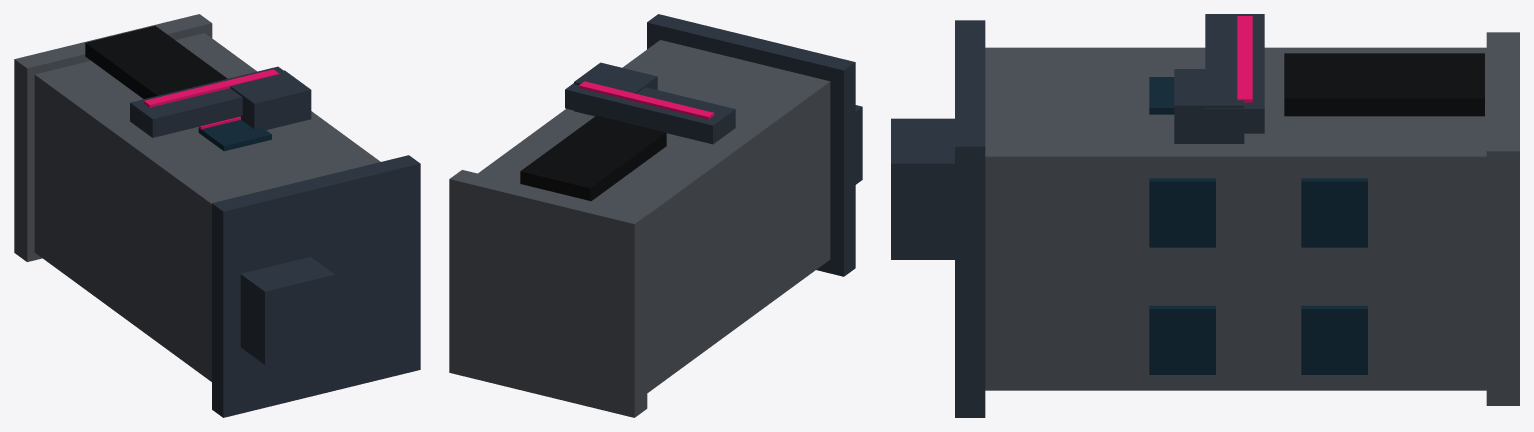
File: ENV_building_repair.obj
3 views of the same model, side by side, from view 1: azimuth 30°, elevation 25°; view 2: azimuth 150°, elevation 25°; view 3: azimuth 270°, elevation 25° (orthographic). The views are drawn at different scales.
Visible parts, largest first — view 1: ENV_building_repair; view 2: ENV_building_repair; view 3: ENV_building_repair.
Part boxes in pixels (x1,y1,x2,y2): ENV_building_repair: (14, 14, 420, 417); ENV_building_repair: (449, 14, 862, 417); ENV_building_repair: (891, 14, 1519, 417).
Size of the model in its own units: 1.97 by 2.16 by 4.14.
